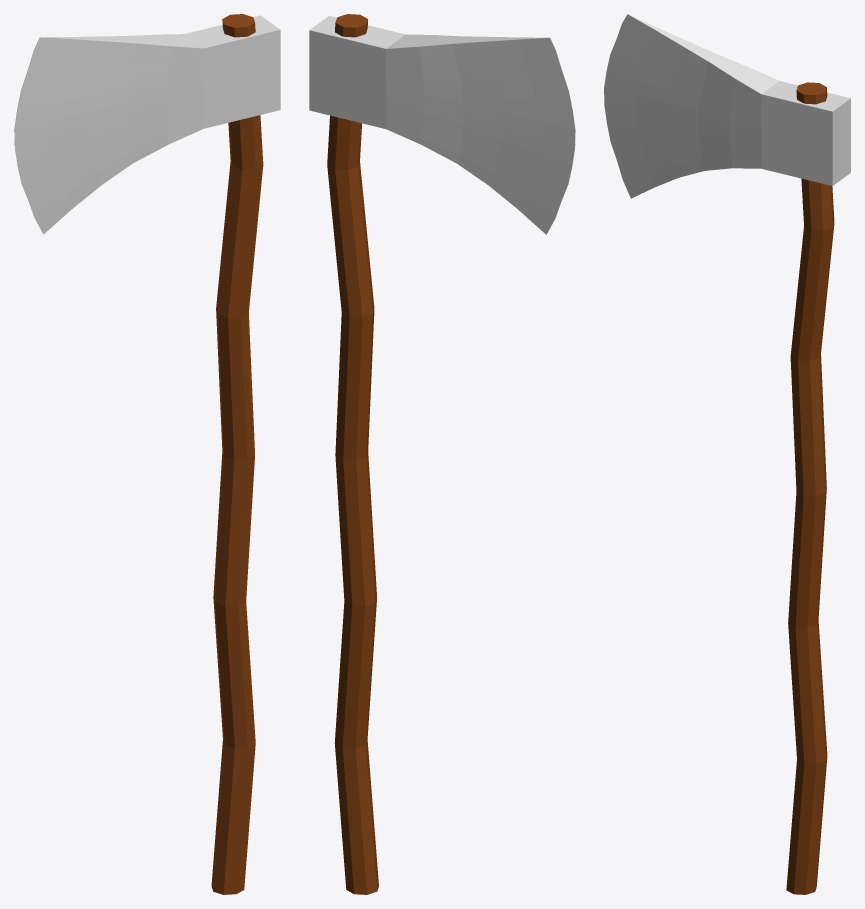
Rendered from Low_Poly_Axe.fbx.
3 renders of one model, left to right at view 1: azimuth 30°, elevation 25°; view 2: azimuth 150°, elevation 25°; view 3: azimuth 330°, elevation 25°, orthographic. The views are drawn at different scales.
Parts seen in each view (by area): view 1: Head, Handle; view 2: Head, Handle; view 3: Head, Handle.
Part boxes in pixels (x1,y1,x2,y2): Head: (14, 15, 280, 234); Handle: (211, 14, 263, 894); Head: (309, 16, 575, 234); Handle: (327, 14, 378, 894); Head: (604, 14, 850, 198); Handle: (786, 82, 834, 894).
Bounding box in the file's own units: 668 × 2232 × 89.03.
